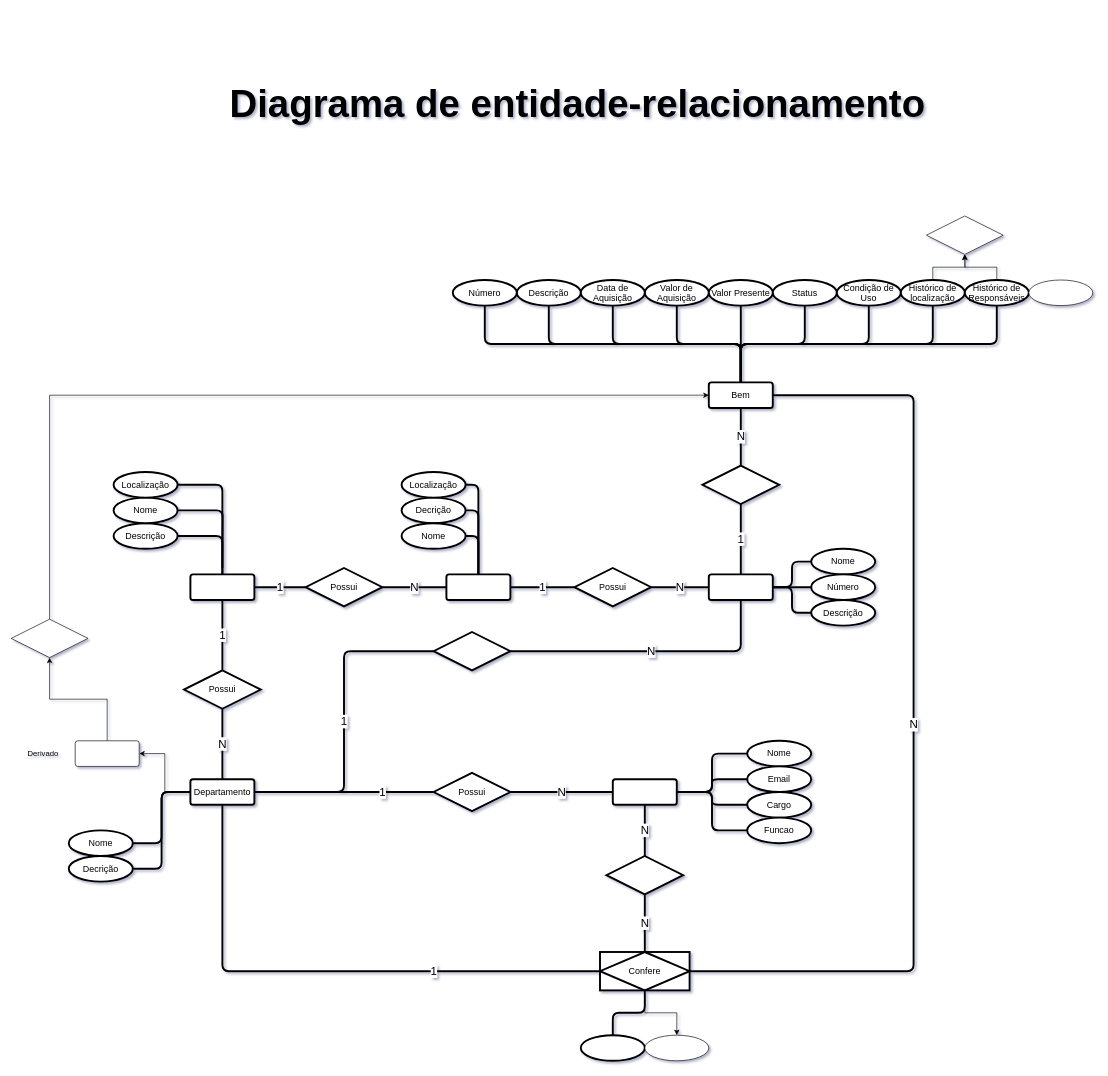
The diagram is 1108 pixels wide and 1076 high, and some of its shapes have lost their labels. The box of each missing label's shape, as (x1, y1, x2, y2) in pixels:
Aloca-se: (701, 464, 780, 505)
Data: (580, 1034, 645, 1061)
Empresa: (189, 573, 255, 601)
Funcionário: (612, 778, 677, 805)
Histórico: (926, 215, 1003, 254)
id/ tipo: (644, 1035, 709, 1061)
Observações: (1028, 279, 1093, 306)
Participa: (605, 855, 684, 895)
Patrimônio: (75, 740, 139, 766)
Prédio: (445, 573, 511, 601)
Relationship: (11, 619, 88, 658)
Respondável: (432, 631, 511, 671)
Salas: (708, 573, 773, 601)
